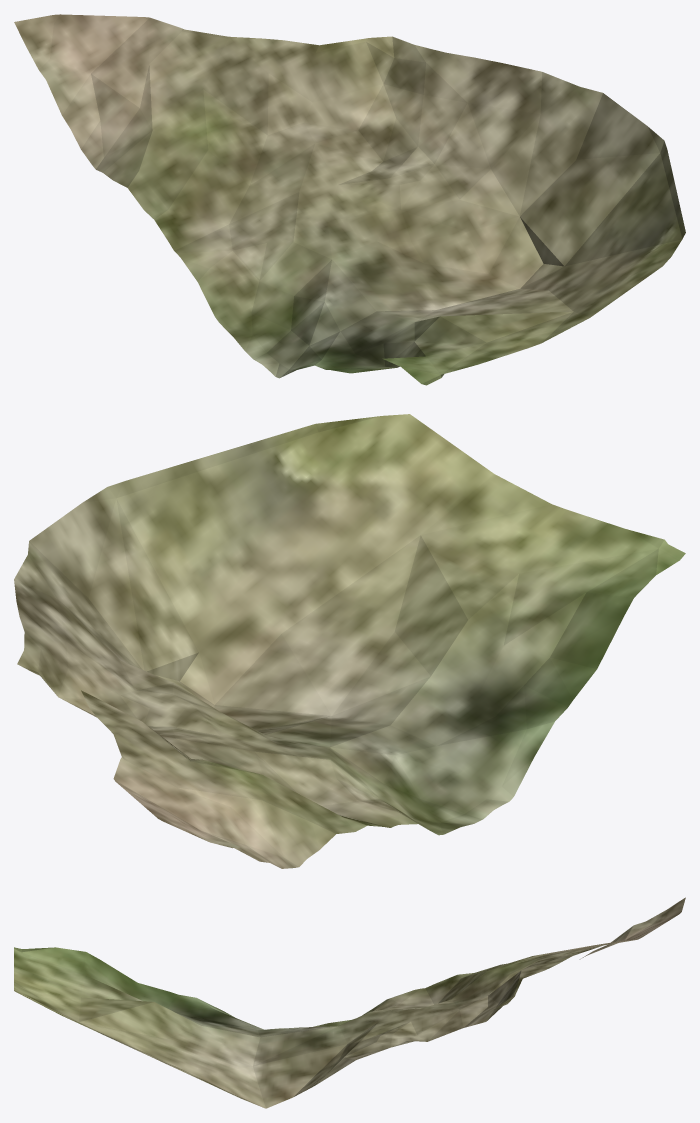
The picture shows the model from 3 angles, top to bottom: view 1: azimuth 30°, elevation 25°; view 2: azimuth 150°, elevation 25°; view 3: azimuth 270°, elevation 25°; orthographic projection. The views are drawn at different scales.
Bounding box in the file's own units: 1.98 × 0.8361 × 3.83.
Materials: 1 (1 with a texture image).
